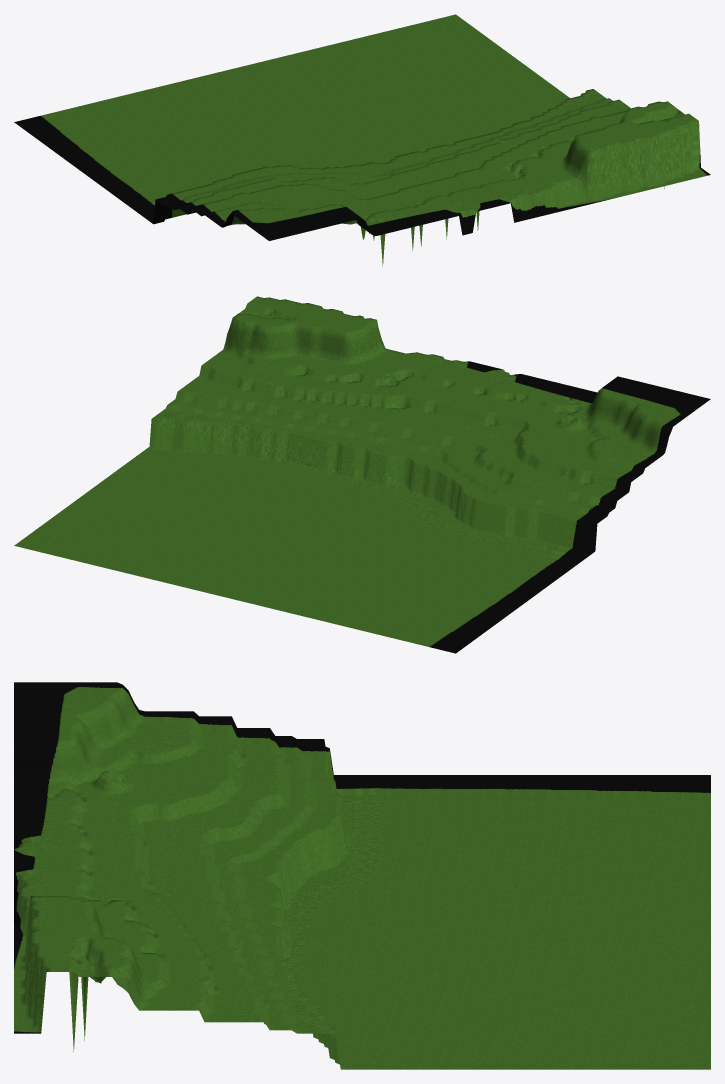
File: lad.obj
3 renders of one model, top to bottom at view 1: azimuth 30°, elevation 25°; view 2: azimuth 150°, elevation 25°; view 3: azimuth 270°, elevation 25°, orthographic. The views are drawn at different scales.
Visible parts, largest first — view 1: Brzeg_Plane; view 2: Brzeg_Plane; view 3: Brzeg_Plane.
Part boxes in pixels (x1,y1,x2,y2): Brzeg_Plane: (14, 14, 710, 266); Brzeg_Plane: (14, 296, 710, 653); Brzeg_Plane: (14, 682, 710, 1069).
Size of the model in its own units: 40.71 by 6.29 by 40.71.
1 material, 1 textured.
